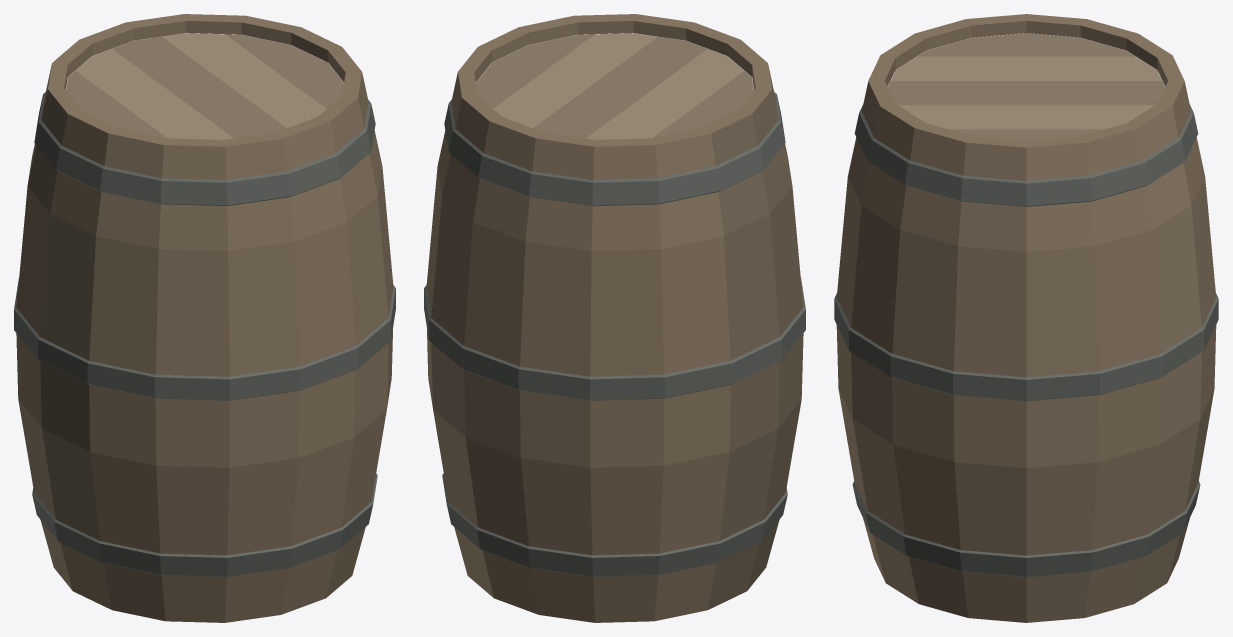
Rendered from env_barrel_v02_three_hoops.glb.
3 views of the same model, side by side, from view 1: azimuth 30°, elevation 25°; view 2: azimuth 150°, elevation 25°; view 3: azimuth 270°, elevation 25° (orthographic).
Visible parts, largest first — view 1: material_0, material_2, material_3, material_5, material_4; view 2: material_0, material_2, material_3, material_5, material_4; view 3: material_0, material_5, material_3, material_4.
Boxes of the visible parts, x1,y1,x2,y2 form: material_0: (27,14,393,622); material_2: (16,89,111,609); material_3: (14,92,395,576); material_5: (66,34,343,138); material_4: (75,33,326,139); material_0: (426,14,792,622); material_2: (708,89,803,609); material_3: (424,92,805,576); material_5: (431,34,753,597); material_4: (493,33,744,139); material_0: (836,14,1216,622); material_5: (888,33,1201,622); material_3: (834,71,1218,577); material_4: (891,56,1161,129).
Bounding box in the file's own units: 0.6565 × 0.9 × 0.6565.
